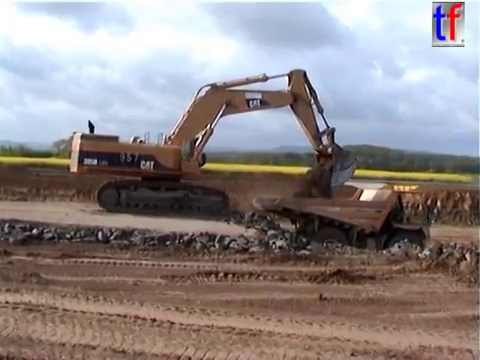excavator: (67, 67, 358, 217)
truck: (250, 181, 441, 274)
